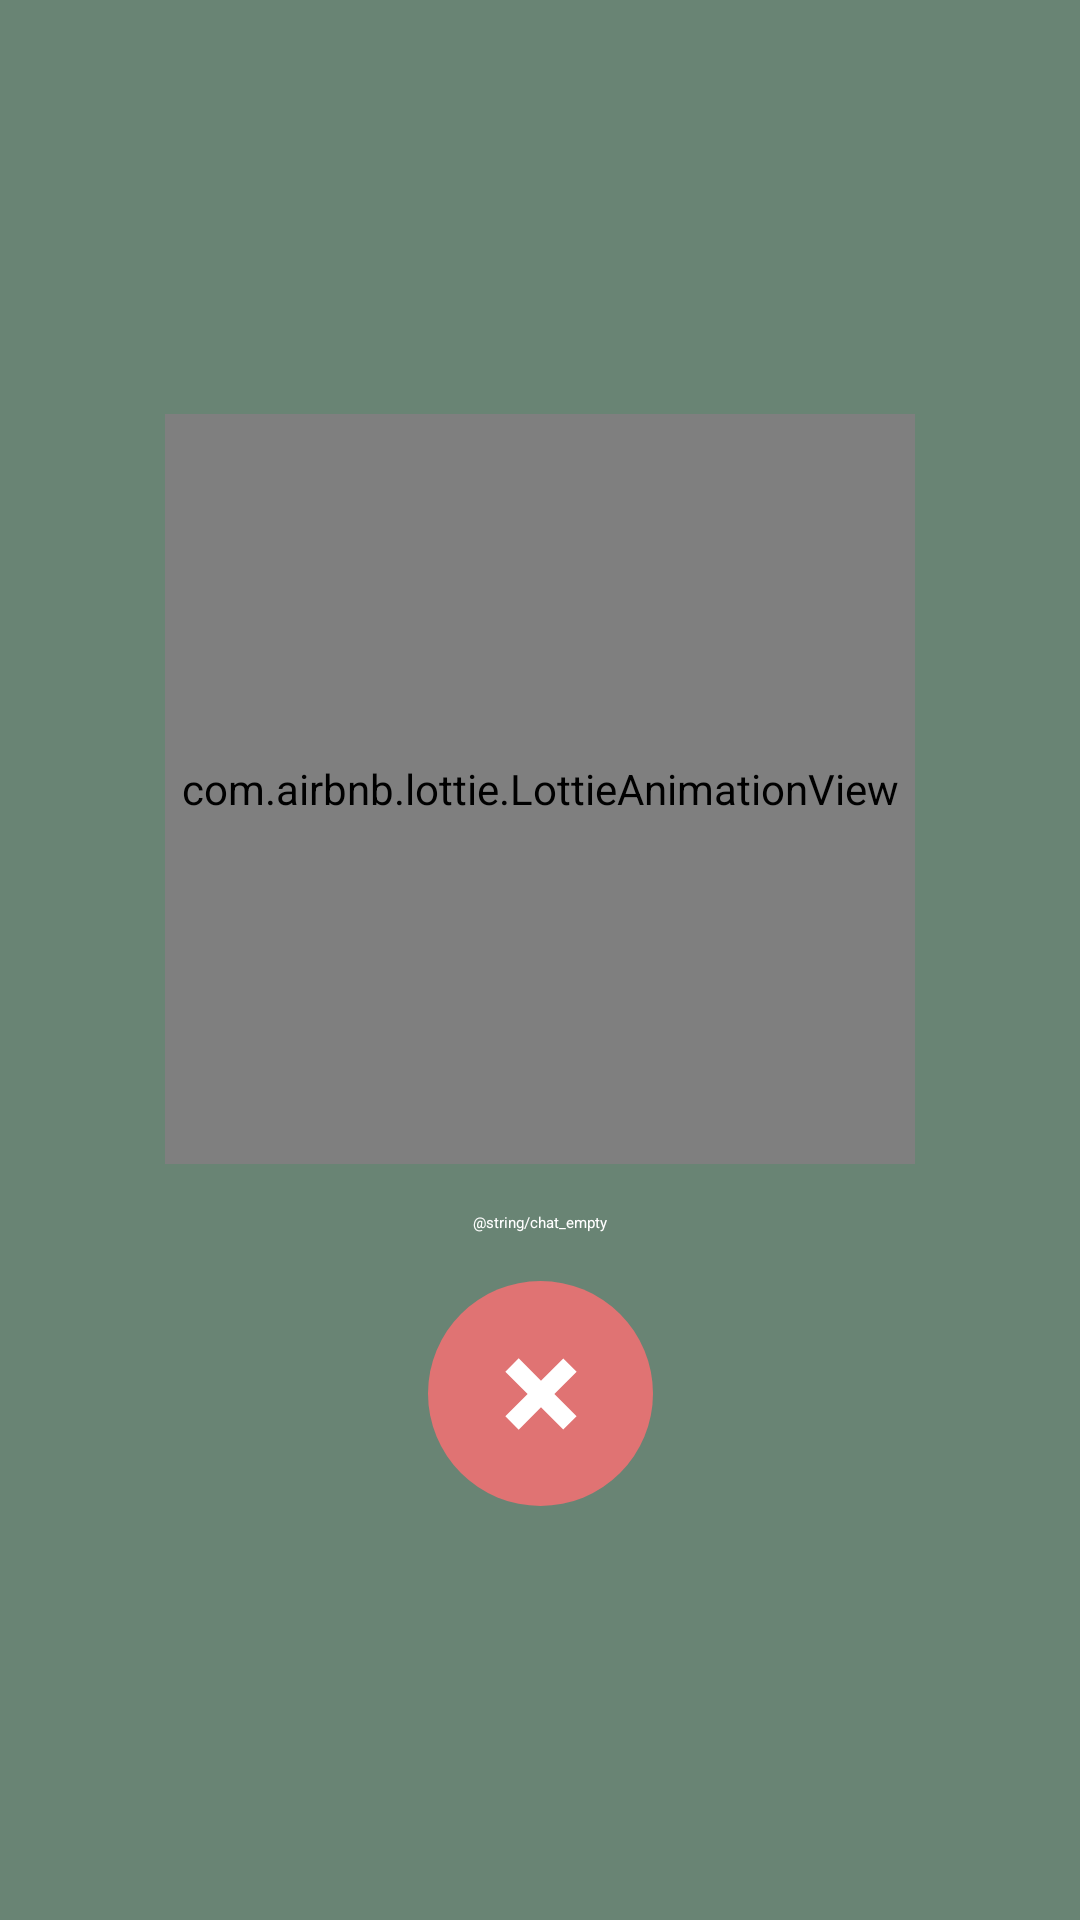

Point at icon controls on the screen. Image size 1080 x 1920, points as point (x, y).
cancel voice: point (540, 1393)
